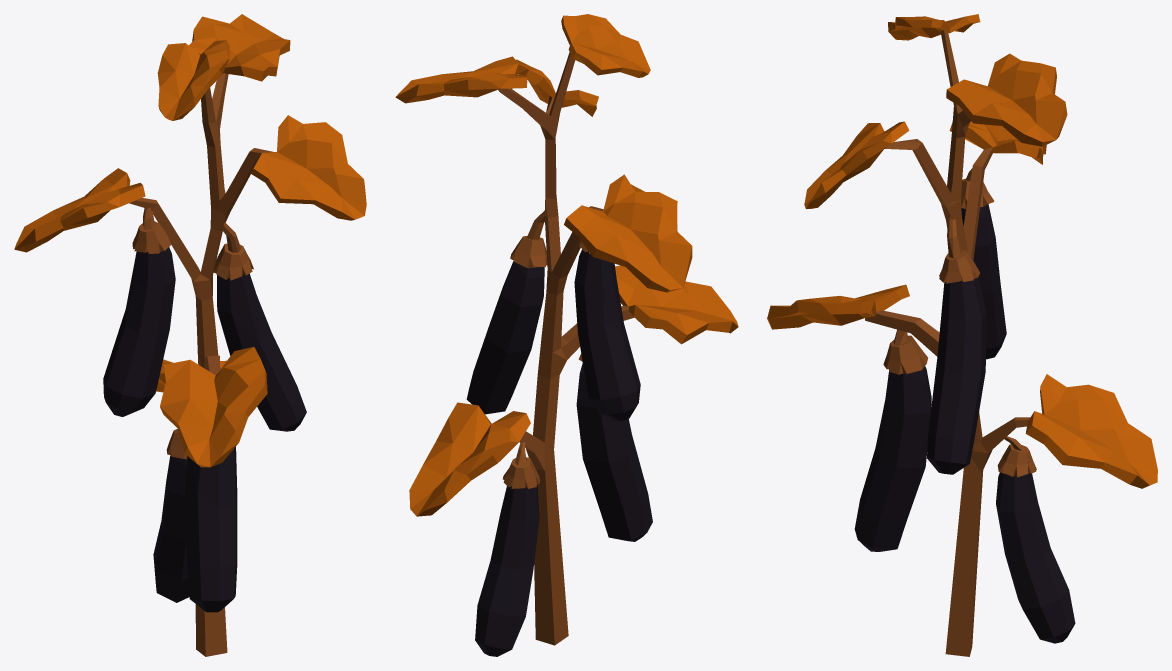
Rendered from Eggplant_L_Died.fbx.
The picture shows the model from 3 angles, left to right: view 1: azimuth 30°, elevation 25°; view 2: azimuth 150°, elevation 25°; view 3: azimuth 270°, elevation 25°; orthographic projection. The views are drawn at different scales.
Parts seen in each view (by area): view 1: Eggplant_L_Died, Eggplant_Died_3, Eggplant_Died_2, Eggplant_Died_4, Eggplant_Died_1; view 2: Eggplant_L_Died, Eggplant_Died_1, Eggplant_Died_3, Eggplant_Died_4, Eggplant_Died_2; view 3: Eggplant_L_Died, Eggplant_Died_2, Eggplant_Died_4, Eggplant_Died_1, Eggplant_Died_3.
Part boxes in pixels (x1=…): Eggplant_L_Died: x1=14, y1=14, x2=366, y2=656; Eggplant_Died_3: x1=103, y1=221, x2=175, y2=416; Eggplant_Died_2: x1=184, y1=447, x2=237, y2=612; Eggplant_Died_4: x1=213, y1=243, x2=306, y2=431; Eggplant_Died_1: x1=153, y1=429, x2=189, y2=602; Eggplant_L_Died: x1=395, y1=14, x2=738, y2=645; Eggplant_Died_1: x1=475, y1=457, x2=539, y2=656; Eggplant_Died_3: x1=574, y1=241, x2=640, y2=421; Eggplant_Died_4: x1=466, y1=236, x2=547, y2=414; Eggplant_Died_2: x1=576, y1=354, x2=652, y2=541; Eggplant_L_Died: x1=767, y1=14, x2=1157, y2=656; Eggplant_Died_2: x1=854, y1=335, x2=931, y2=551; Eggplant_Died_4: x1=927, y1=250, x2=986, y2=474; Eggplant_Died_1: x1=996, y1=444, x2=1075, y2=643; Eggplant_Died_3: x1=961, y1=178, x2=1006, y2=359.
Bounding box in the file's own units: 38.83 × 82.62 × 46.25.
